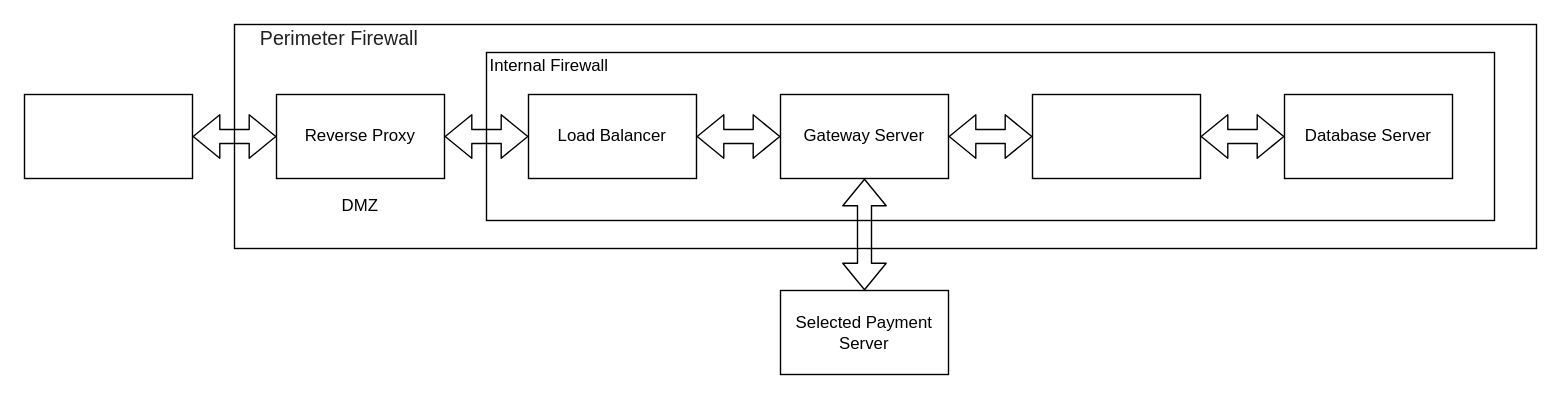
The diagram is 1561 pixels wide and 399 high, and some of its shapes have lost their labels. The box of each missing label's shape, as (x1, y1, x2, y2) in pixels:
Application Server: (1031, 93, 1200, 178)
Client Web Browser: (23, 93, 192, 178)
